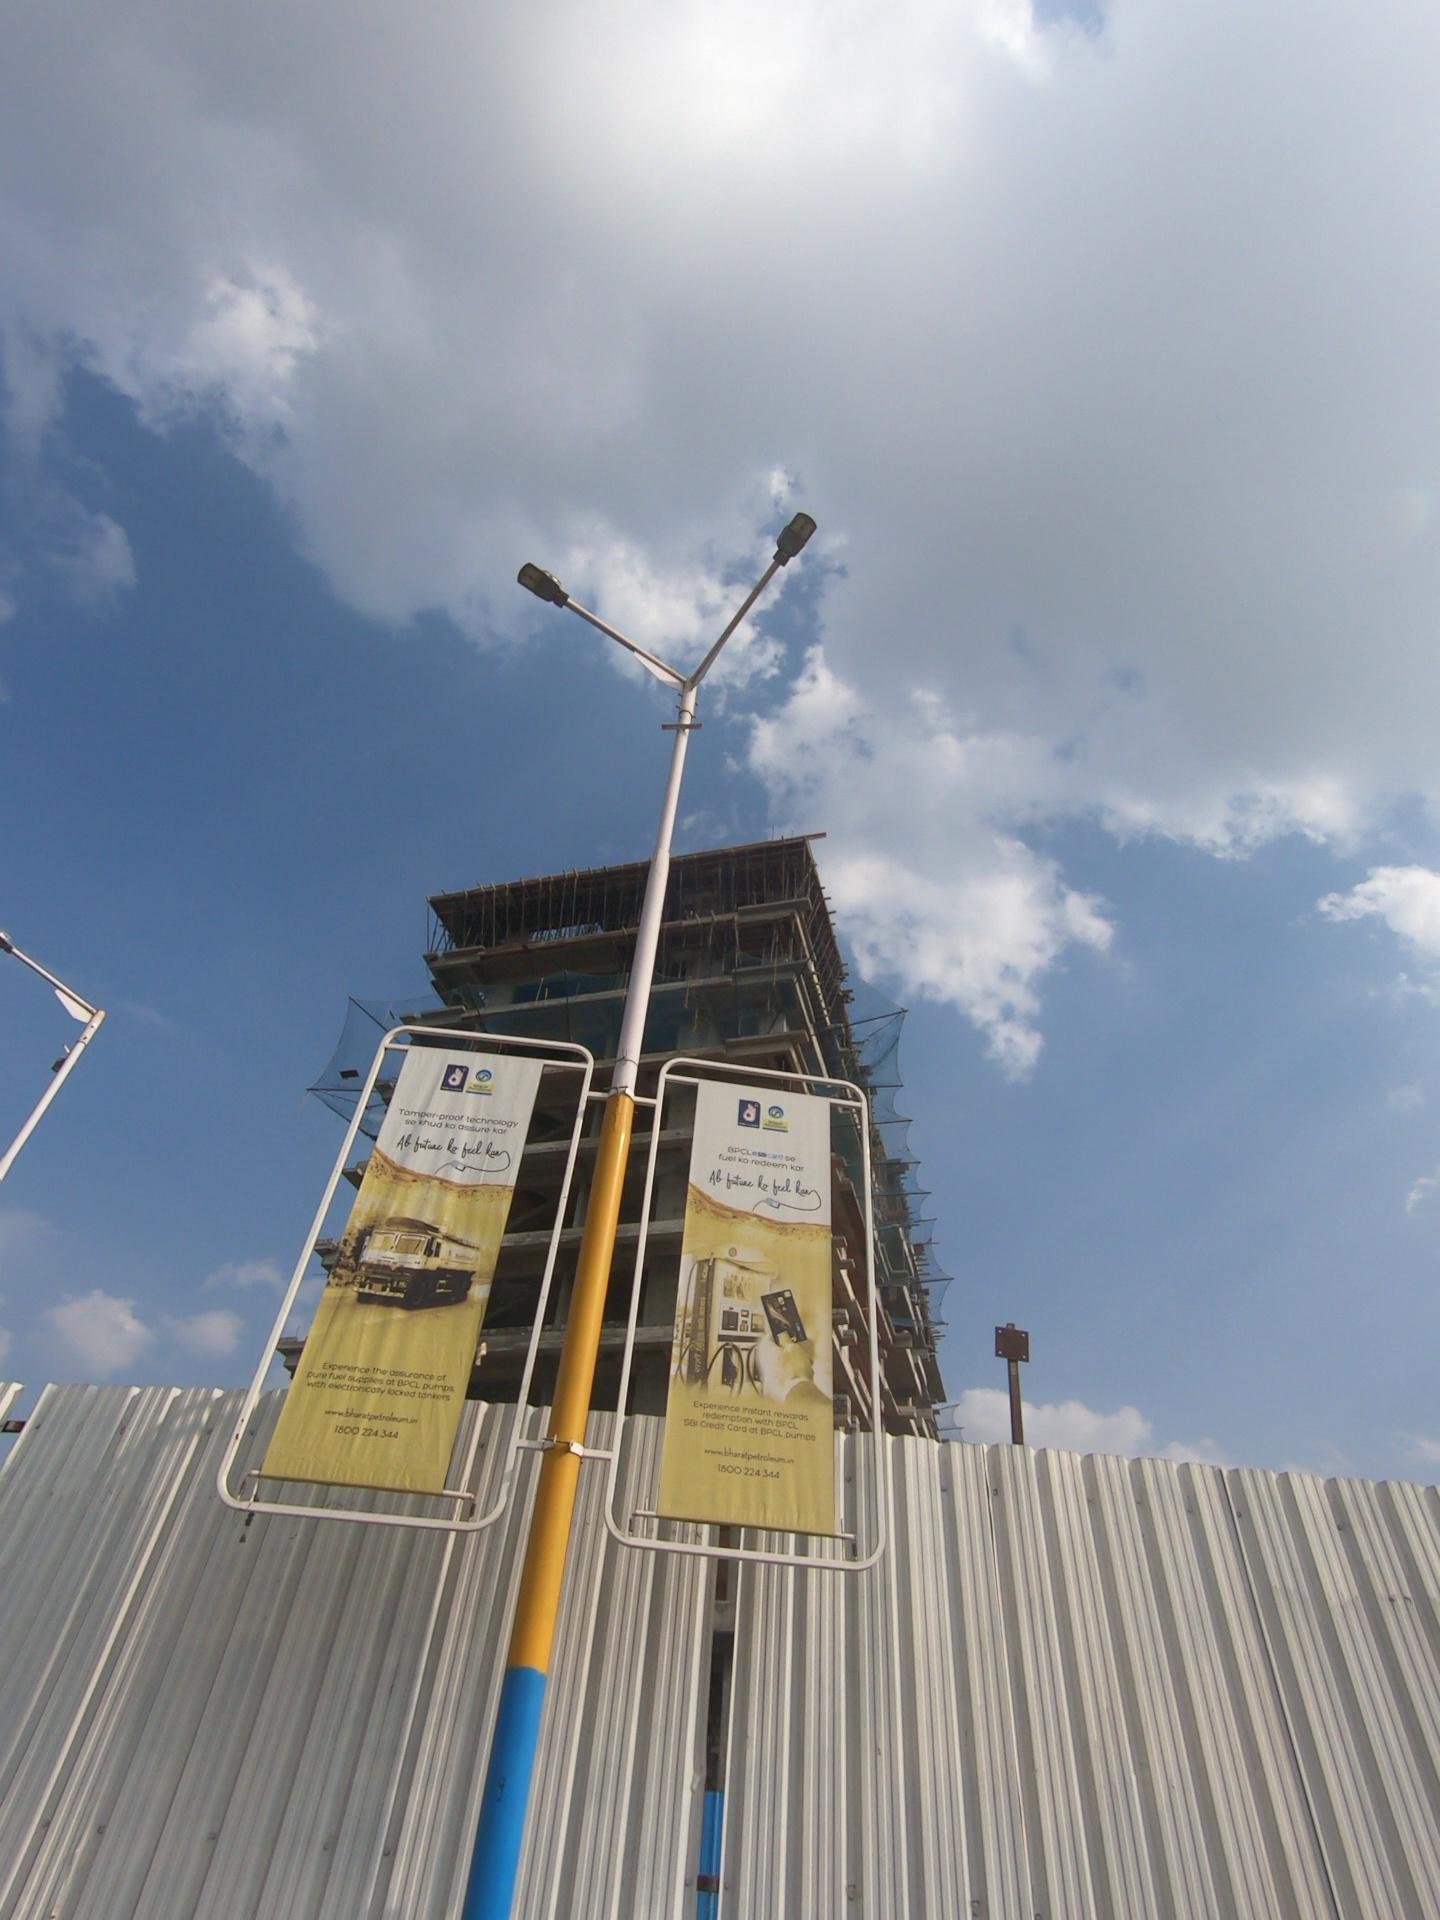off: (460, 511, 939, 724)
